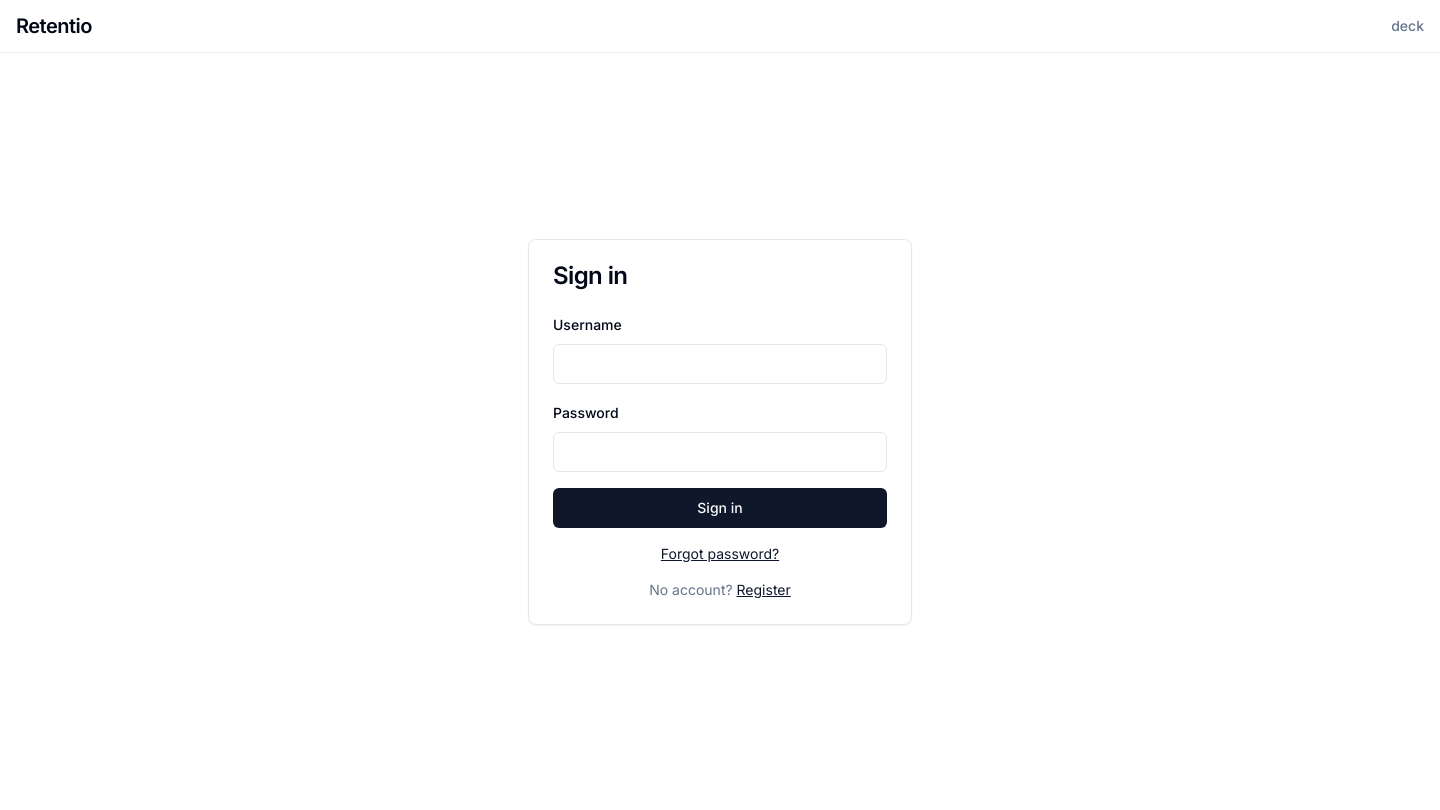
LoginPage › shows an error message when login fails
Type "alice" into the field labelled "Username" at (720, 364), box [553,344,887,384]
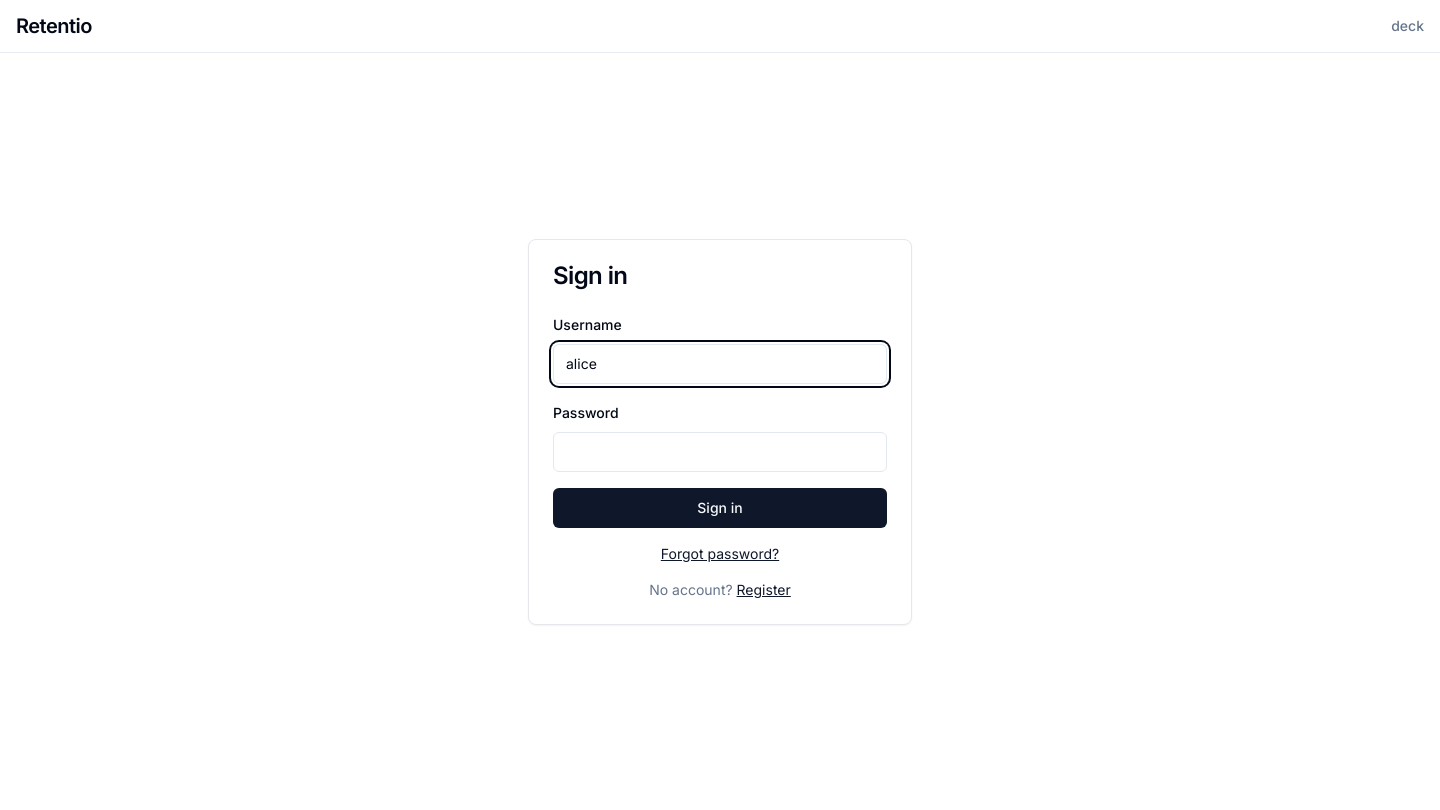
Type "wrong" into the password field labelled "Password" at (720, 452), box [553,432,887,472]
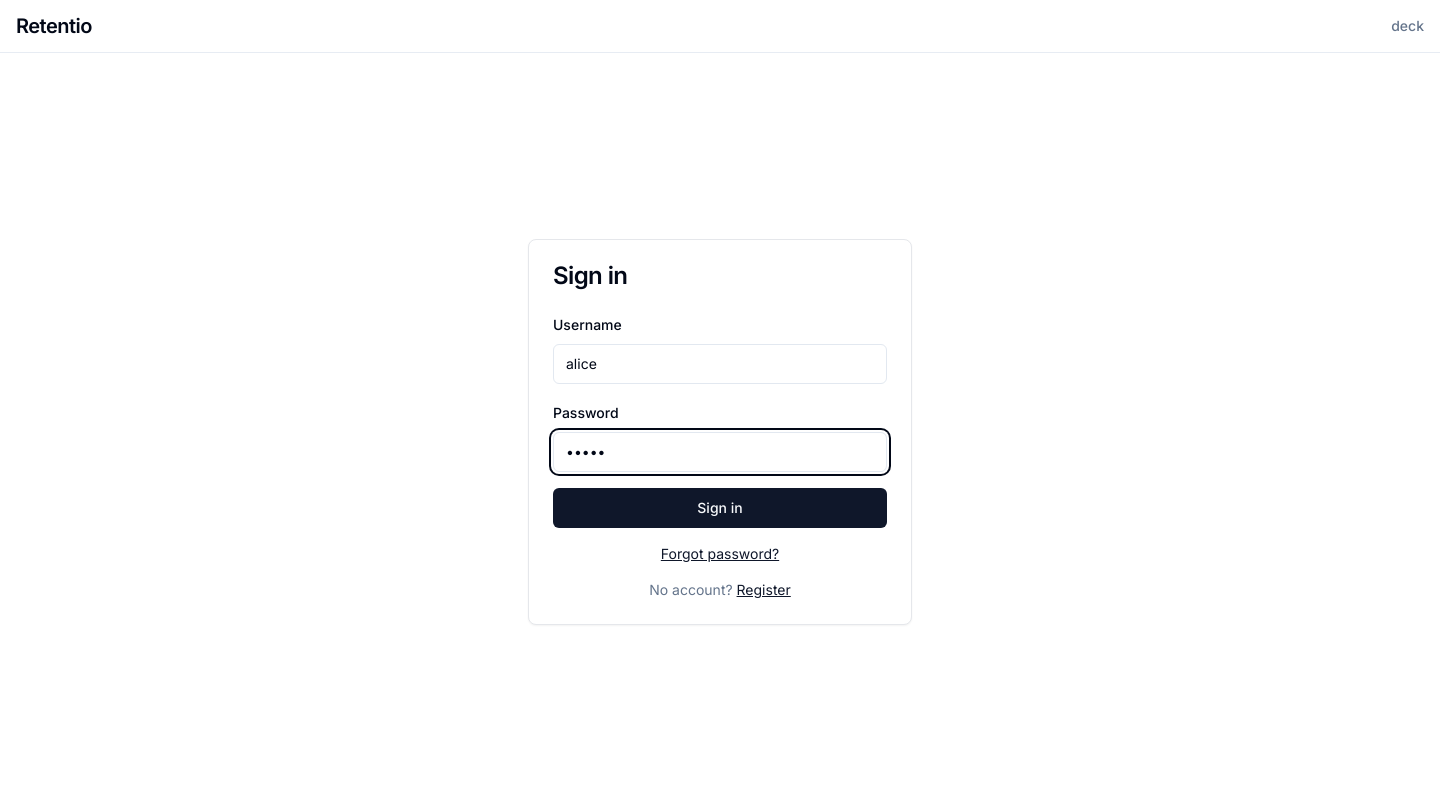
Click the button "Sign in" at (720, 508), box [553,488,887,528]
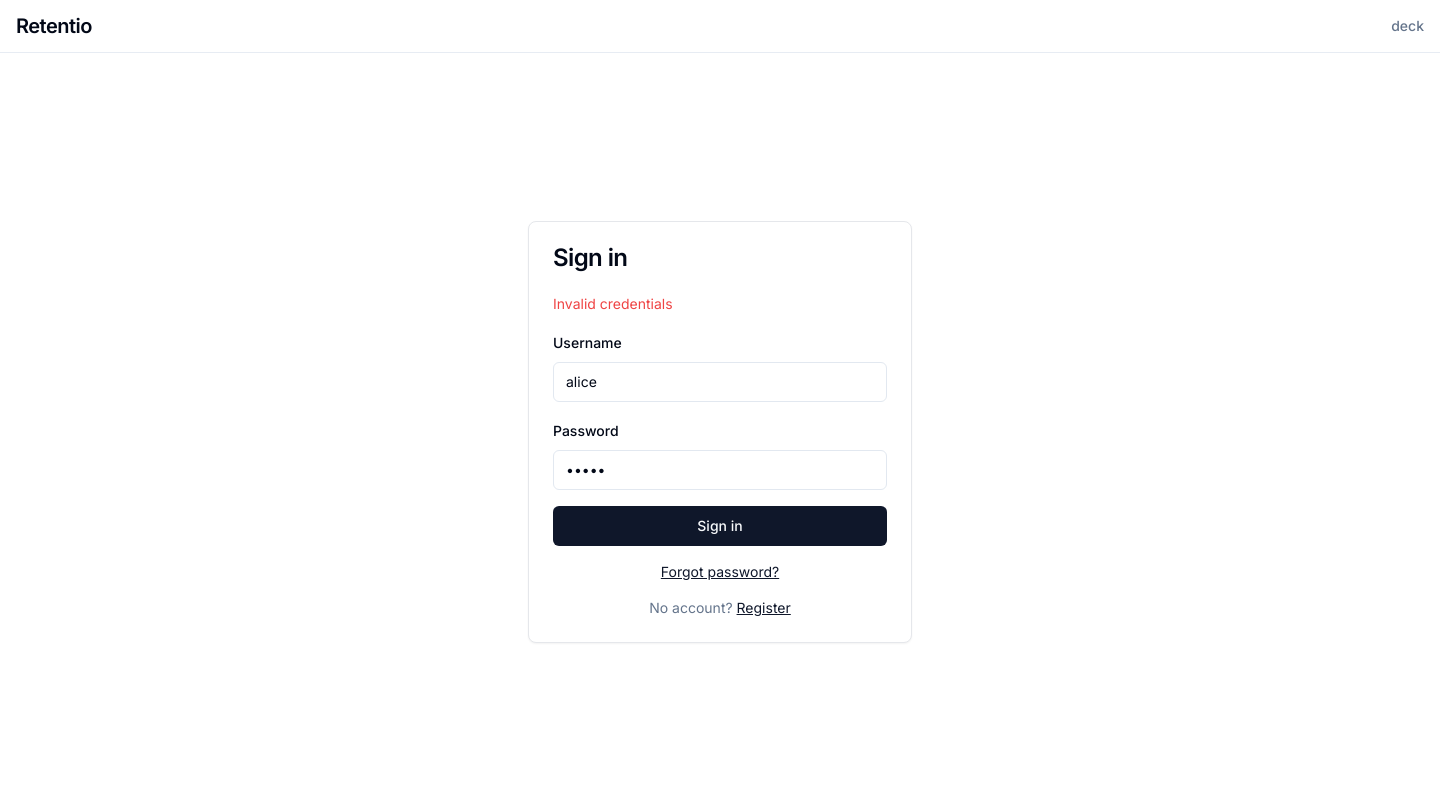
expect the text "Invalid credentials" is shown: met, box [553,294,673,312]
